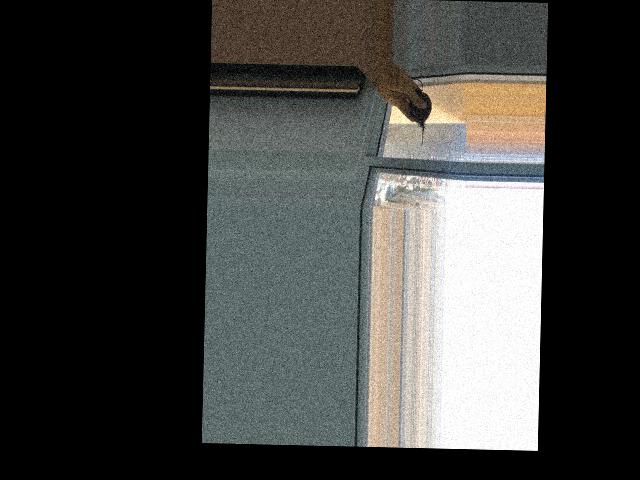beet: (401, 78, 432, 147)
